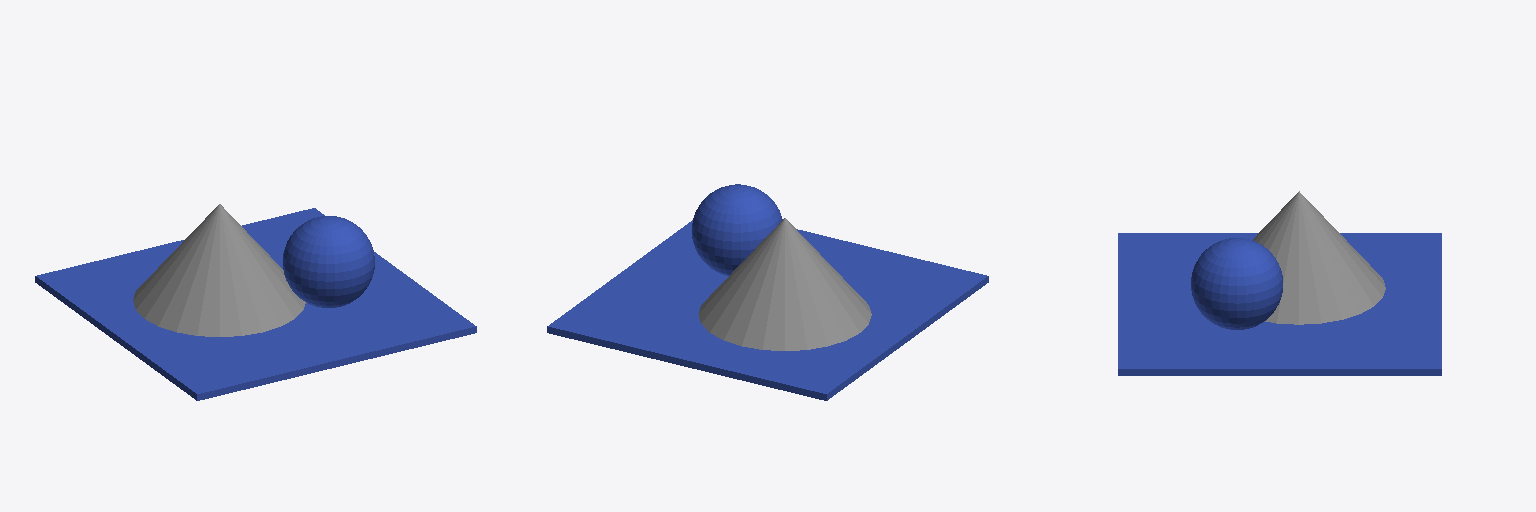
Rendered from shadowscene1.obj.
The picture shows the model from 3 angles: view 1: azimuth 30°, elevation 25°; view 2: azimuth 150°, elevation 25°; view 3: azimuth 270°, elevation 25°; orthographic projection.
Visible parts, largest first — view 1: Box001, Cone001, Sphere001; view 2: Box001, Cone001, Sphere001; view 3: Box001, Cone001, Sphere001.
Boxes of the visible parts, x1,y1,x2,y2 form: Box001: [35, 208, 476, 400]; Cone001: [133, 204, 305, 336]; Sphere001: [283, 216, 374, 307]; Box001: [547, 220, 988, 400]; Cone001: [698, 218, 871, 350]; Sphere001: [692, 184, 782, 275]; Box001: [1118, 233, 1441, 375]; Cone001: [1253, 191, 1385, 324]; Sphere001: [1191, 238, 1282, 329].
Bounding box in the file's own units: 137 × 48.81 × 138.